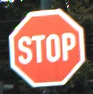stopsign: (10, 10, 84, 88)
